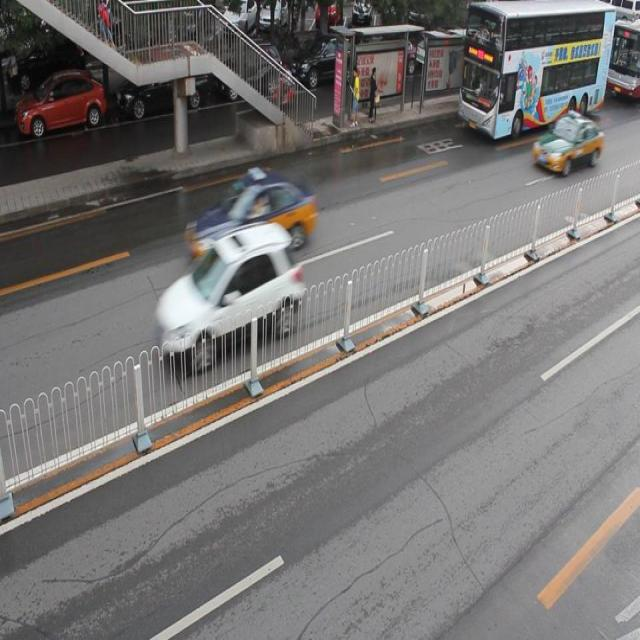car: (154, 220, 302, 369), (190, 172, 314, 259), (14, 72, 105, 141), (117, 56, 205, 119), (531, 111, 602, 176), (288, 36, 358, 90), (220, 43, 279, 102)
van: (461, 1, 613, 142), (603, 19, 640, 97)
